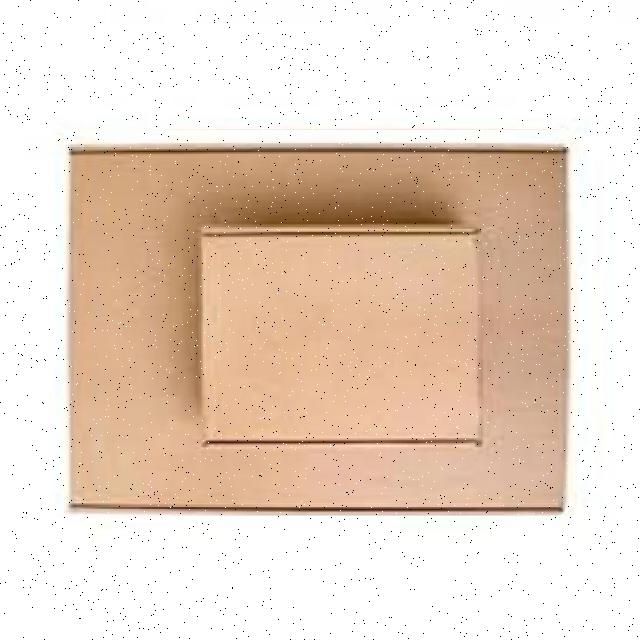normal: (64, 130, 574, 516), (183, 195, 491, 428)
